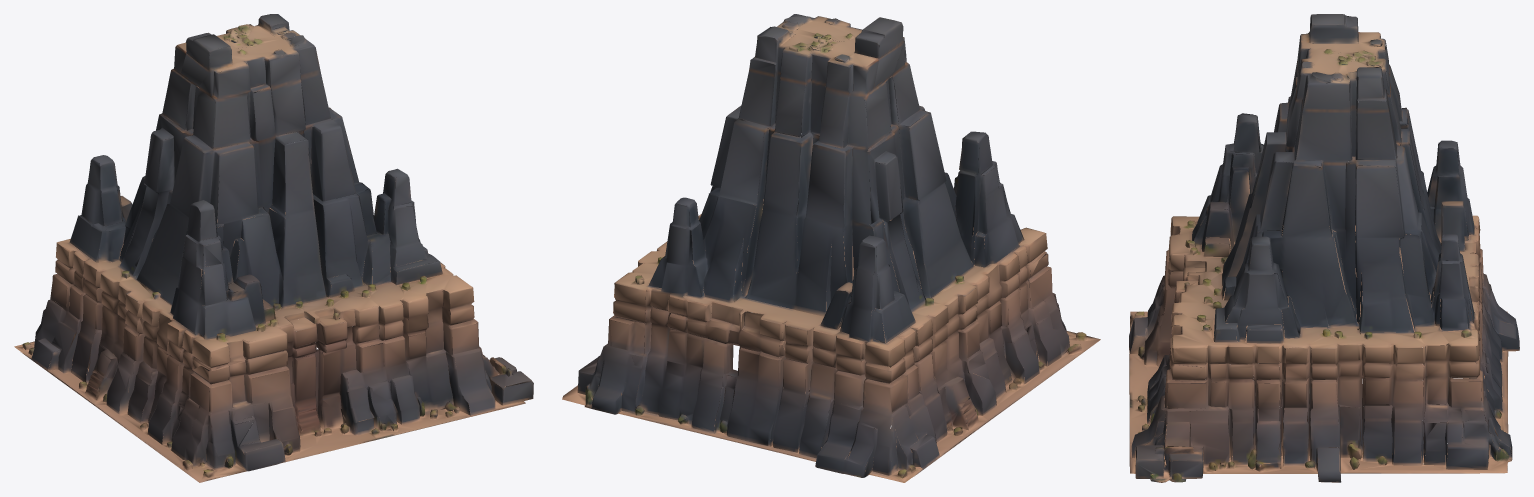
The model's file is mountain_high_layer.glb.
3 renders of one model, left to right at view 1: azimuth 30°, elevation 25°; view 2: azimuth 150°, elevation 25°; view 3: azimuth 270°, elevation 25°, orthographic. The views are drawn at different scales.
Visible parts, largest first — view 1: node_0; view 2: node_0; view 3: node_0.
Part boxes in pixels (box(x1,y1,x2,y2)): node_0: box(14, 14, 533, 482); node_0: box(562, 14, 1100, 482); node_0: box(1129, 14, 1519, 482).
Bounding box in the file's own units: 0.7161 × 0.6803 × 0.6923.
1 material, 1 textured.
